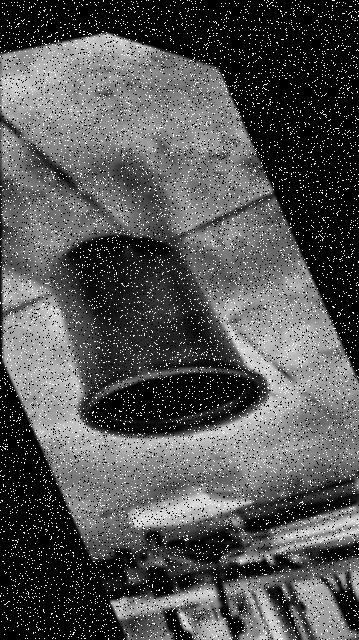pot: (52, 234, 266, 436)
